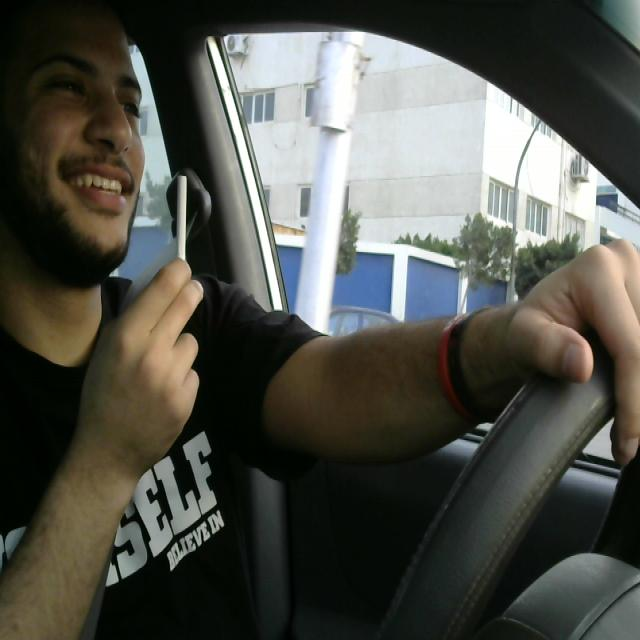smoking: (170, 176, 192, 280)
